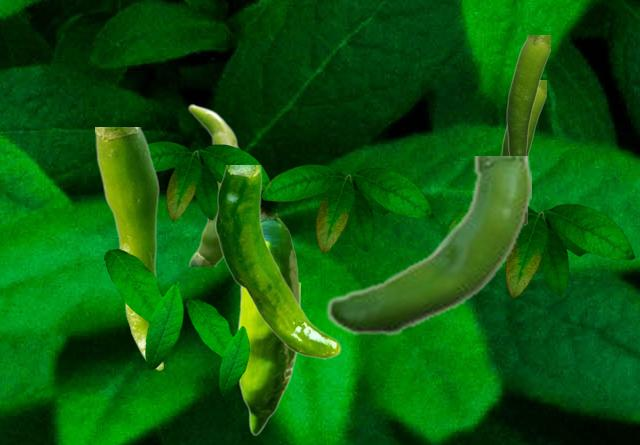green_chili: (325, 156, 530, 336), (215, 165, 340, 358), (95, 127, 162, 369), (236, 218, 299, 434), (187, 103, 240, 265), (506, 35, 549, 224), (500, 80, 545, 155)
